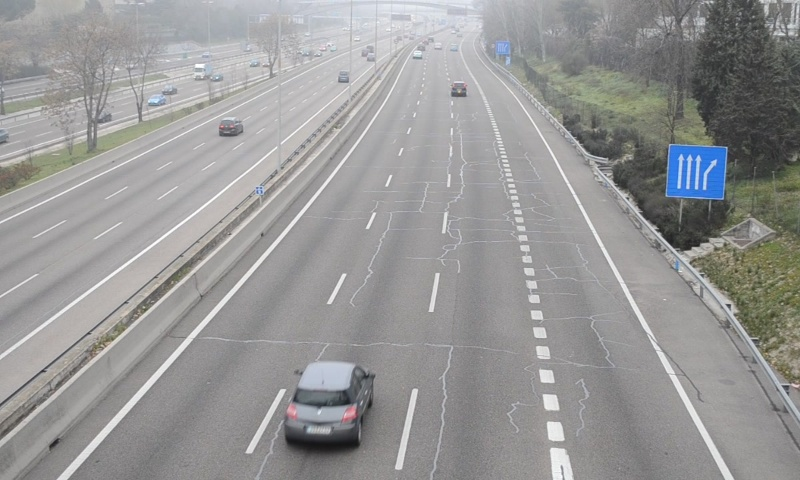car: (284, 362, 374, 442), (450, 80, 468, 96)
